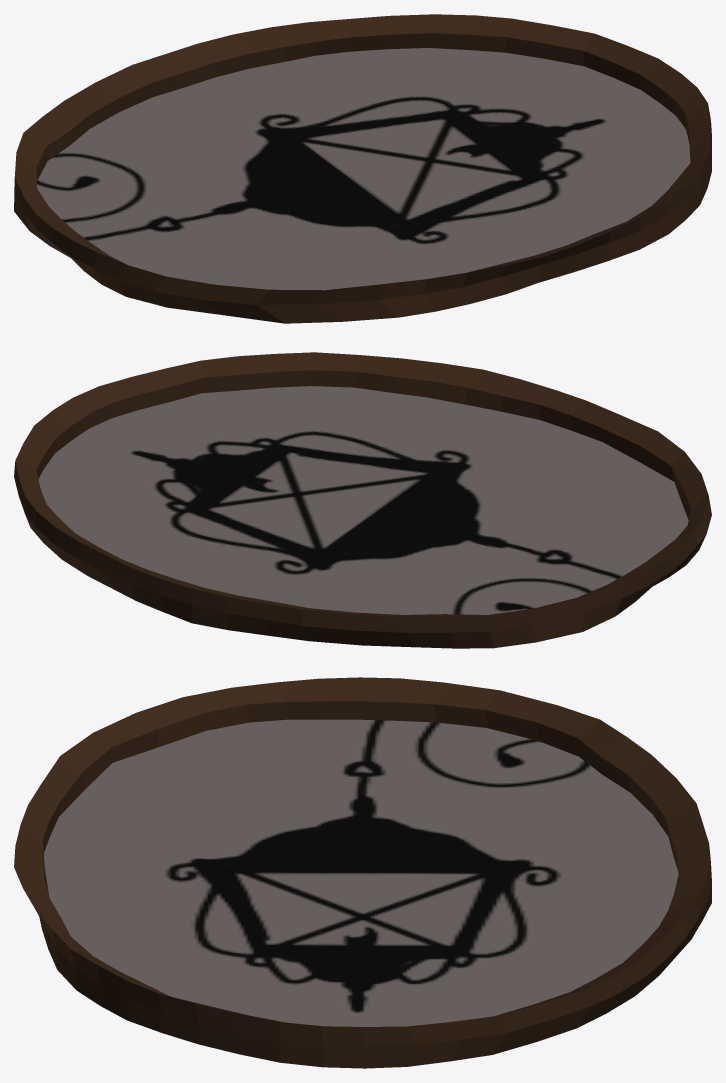
File: OvalFrame1.fbx
3 views of the same model, one above another, from view 1: azimuth 30°, elevation 25°; view 2: azimuth 150°, elevation 25°; view 3: azimuth 270°, elevation 25° (orthographic). The views are drawn at different scales.
Visible parts, largest first — view 1: OvalFrame1; view 2: OvalFrame1; view 3: OvalFrame1.
Boxes of the visible parts, left/top/right/bottom form: OvalFrame1: left=14, top=14, right=711, bottom=323; OvalFrame1: left=14, top=352, right=711, bottom=648; OvalFrame1: left=14, top=677, right=711, bottom=1068.
Size of the model in its own units: 352 by 18.59 by 295.
